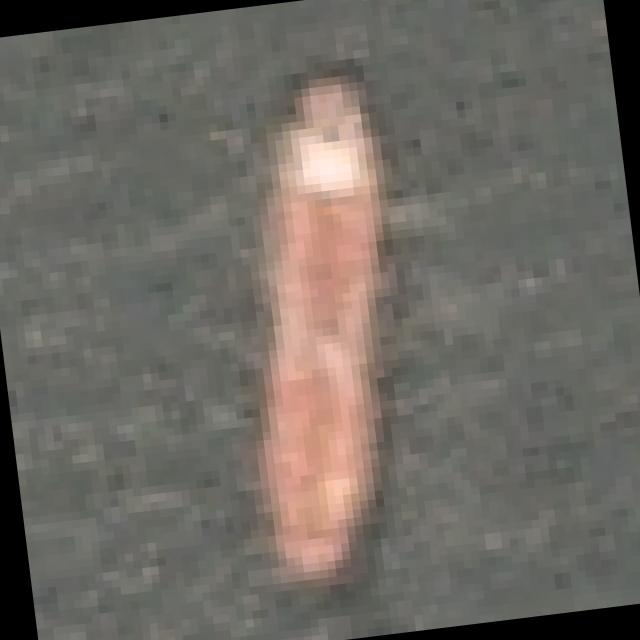ship: (108, 32, 501, 638)
